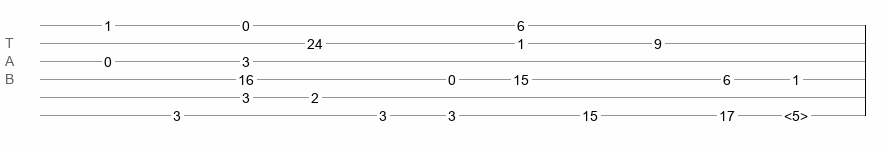0: (104, 54, 112, 64), (242, 18, 250, 28), (448, 72, 456, 82)
1: (104, 18, 112, 28), (517, 36, 525, 46), (792, 72, 800, 82)
15: (513, 72, 529, 82), (582, 108, 598, 118)
16: (238, 72, 254, 82)
17: (719, 108, 735, 118)
2: (311, 90, 319, 100)
24: (307, 36, 323, 46)
3: (173, 108, 181, 118), (242, 90, 250, 100), (242, 54, 250, 64), (379, 108, 387, 118), (448, 108, 456, 118)
6: (517, 18, 525, 28), (723, 72, 731, 82)
9: (654, 36, 662, 46)
harmonic: (784, 108, 808, 118)
